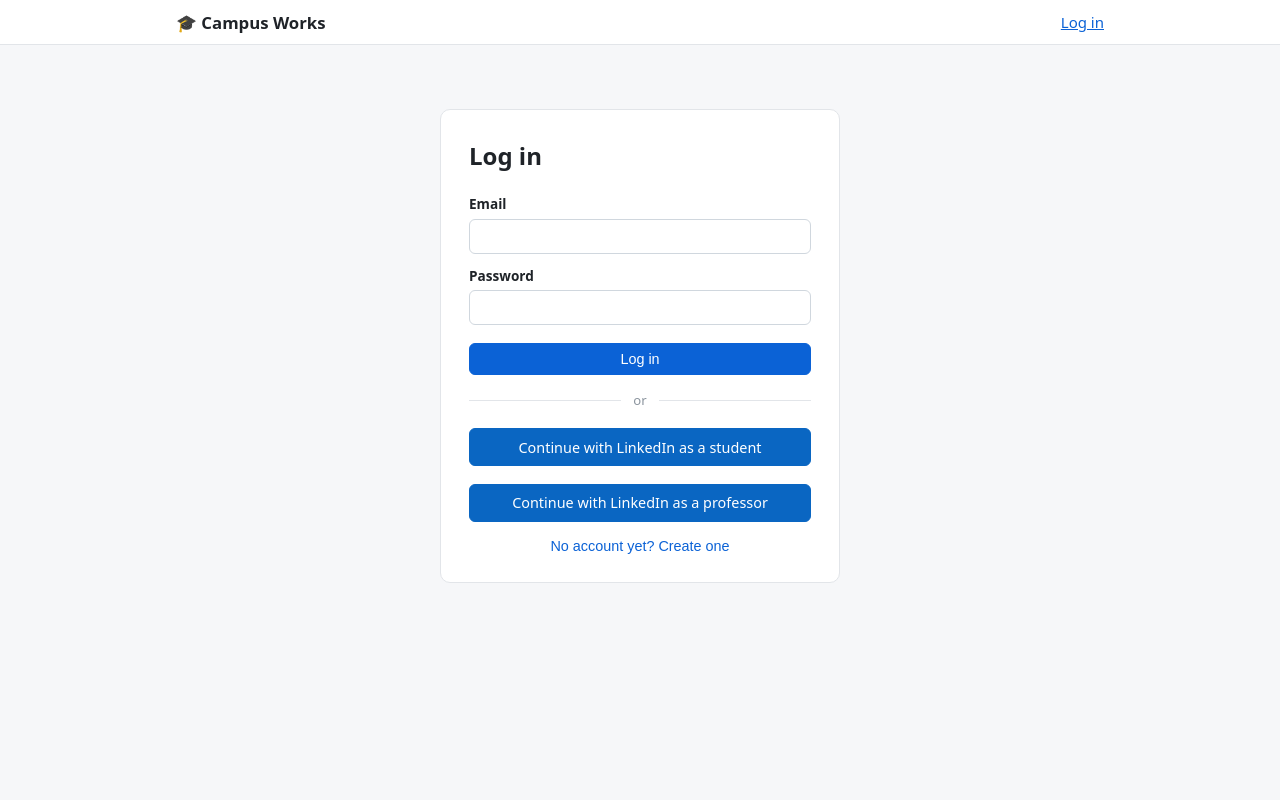
it: shows validation messages on an empty submit
The image size is (1280, 800).
Click the button "Log in": (640, 359) [469,343,811,375]
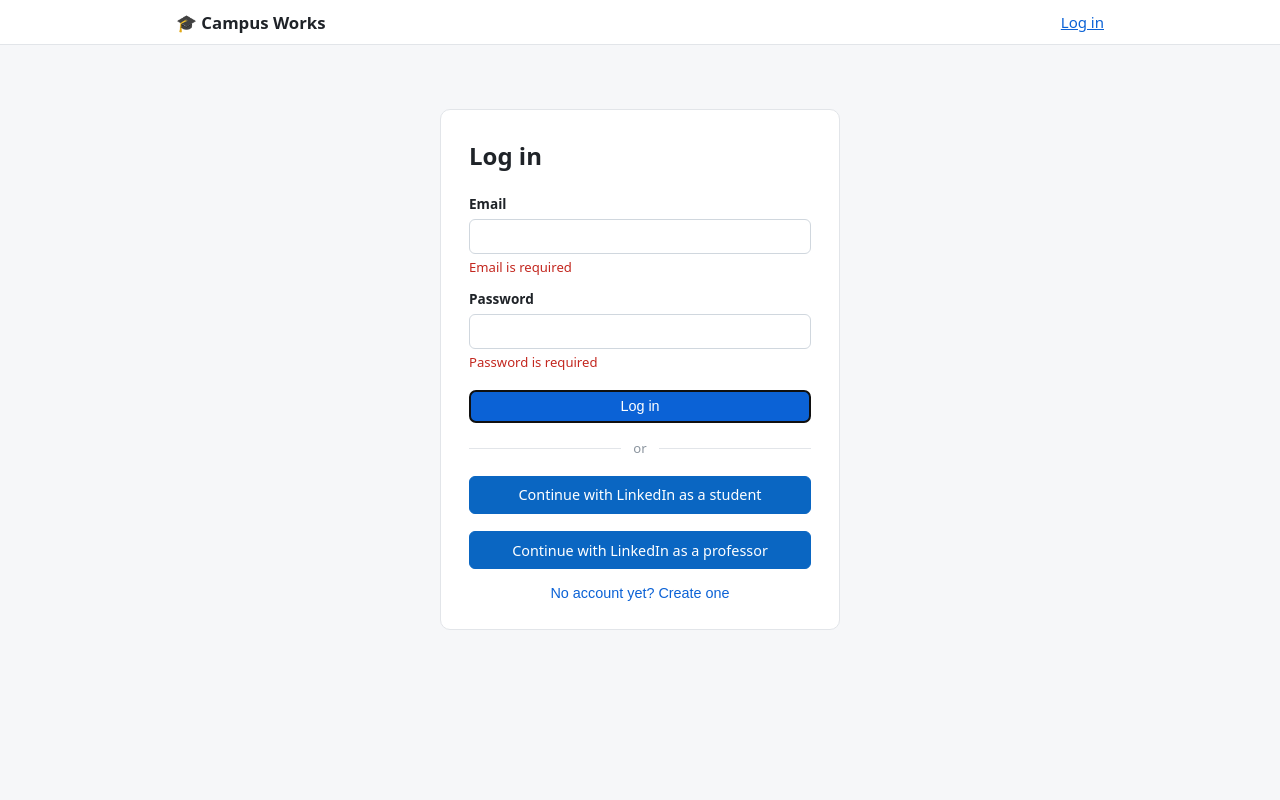
Check: the text "Email is required" is shown, box [469,258,572,276]
Check: the text "Password is required" is shown, box [469,353,598,371]
